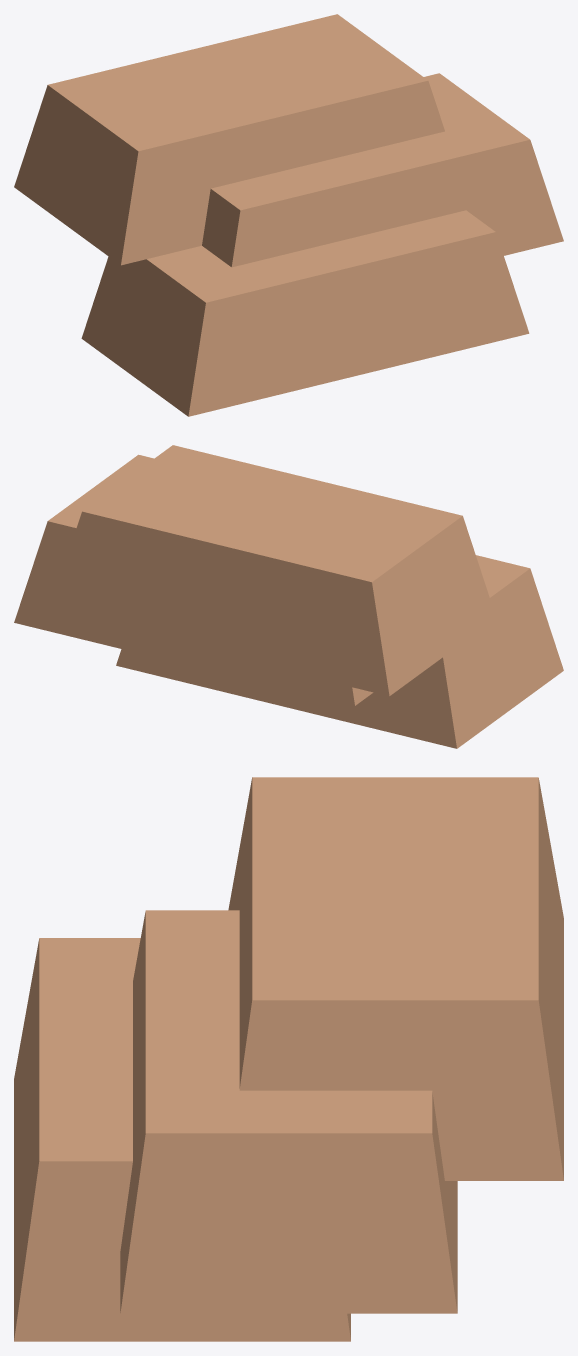
Rendered from item_097_tablet_m.glb.
The picture shows the model from 3 angles, top to bottom: view 1: azimuth 30°, elevation 25°; view 2: azimuth 150°, elevation 25°; view 3: azimuth 270°, elevation 25°; orthographic projection. The views are drawn at different scales.
Parts seen in each view (by area): view 1: item_097_tablet_m; view 2: item_097_tablet_m; view 3: item_097_tablet_m.
Boxes of the visible parts, left/top/right/bottom form: item_097_tablet_m: left=14, top=14, right=563, bottom=416; item_097_tablet_m: left=14, top=445, right=563, bottom=748; item_097_tablet_m: left=14, top=777, right=563, bottom=1341.
Size of the model in its own units: 0.42 by 0.2 by 0.31.
